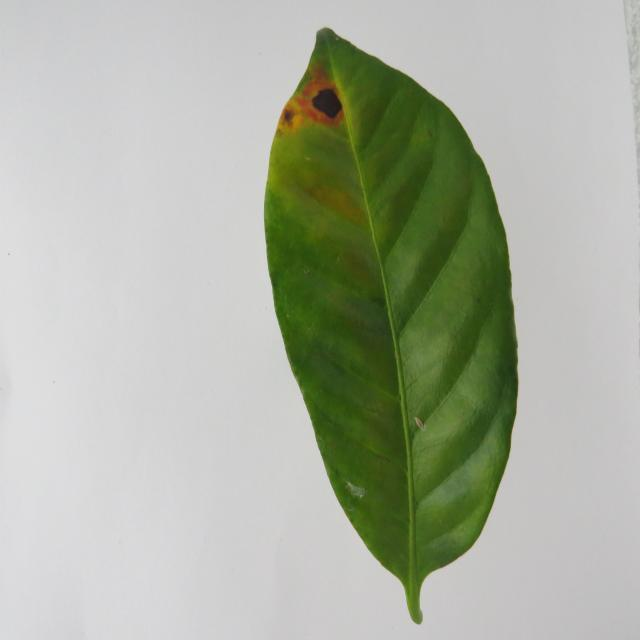DeficienciaNutricional-Fosforo: (265, 28, 518, 623)
